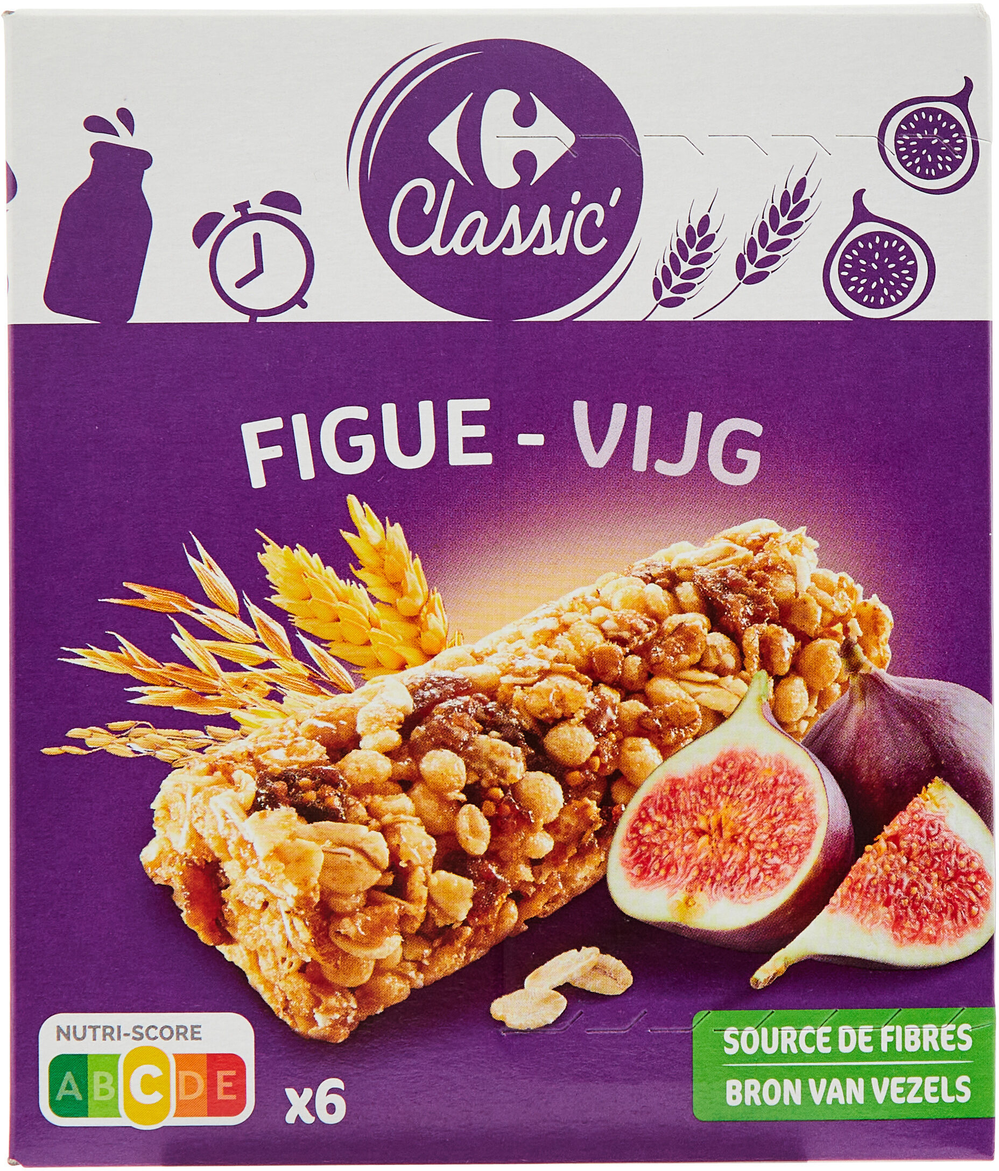Figue: (50, 59, 949, 1112)
